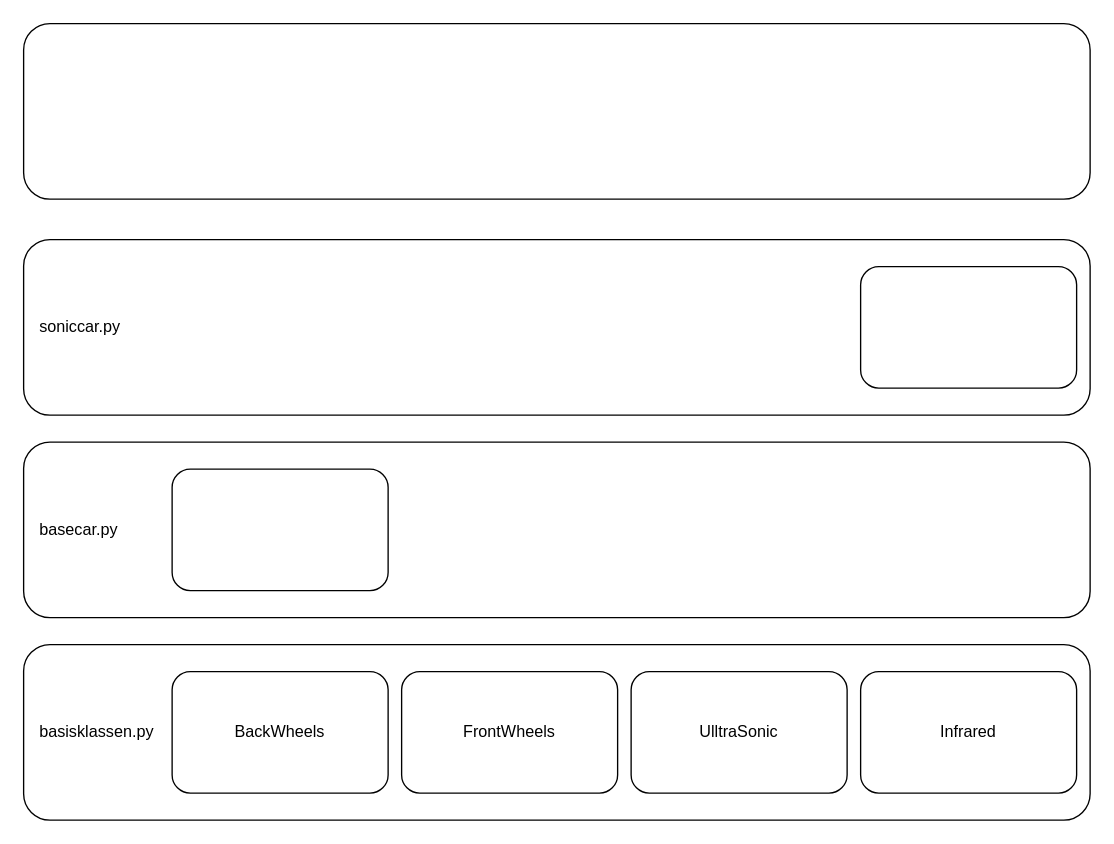
This 1114x844 diagram has some shape labels left out. The shapes that lost their labels are listed below. From the top down, each one's centre as x and y in pixels, then its label:
At point 556,110: "main.py".
At point 968,326: "SonicCar".
At point 279,529: "BaseCar".
